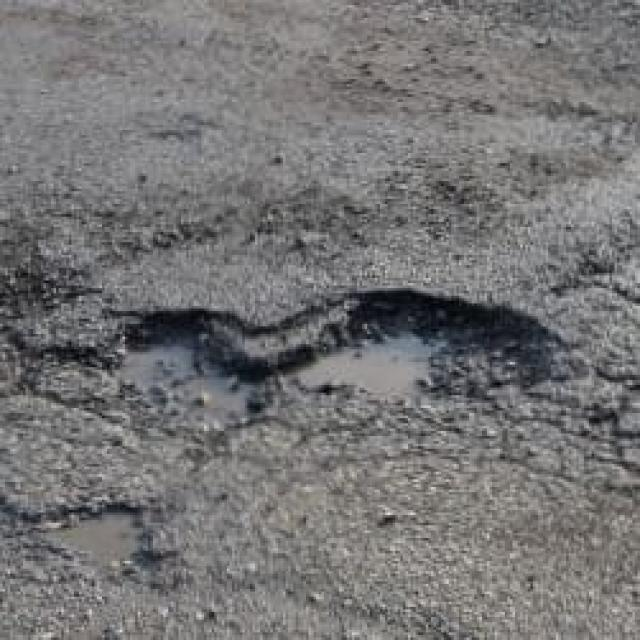pothole: (11, 284, 576, 430), (3, 481, 152, 582)
